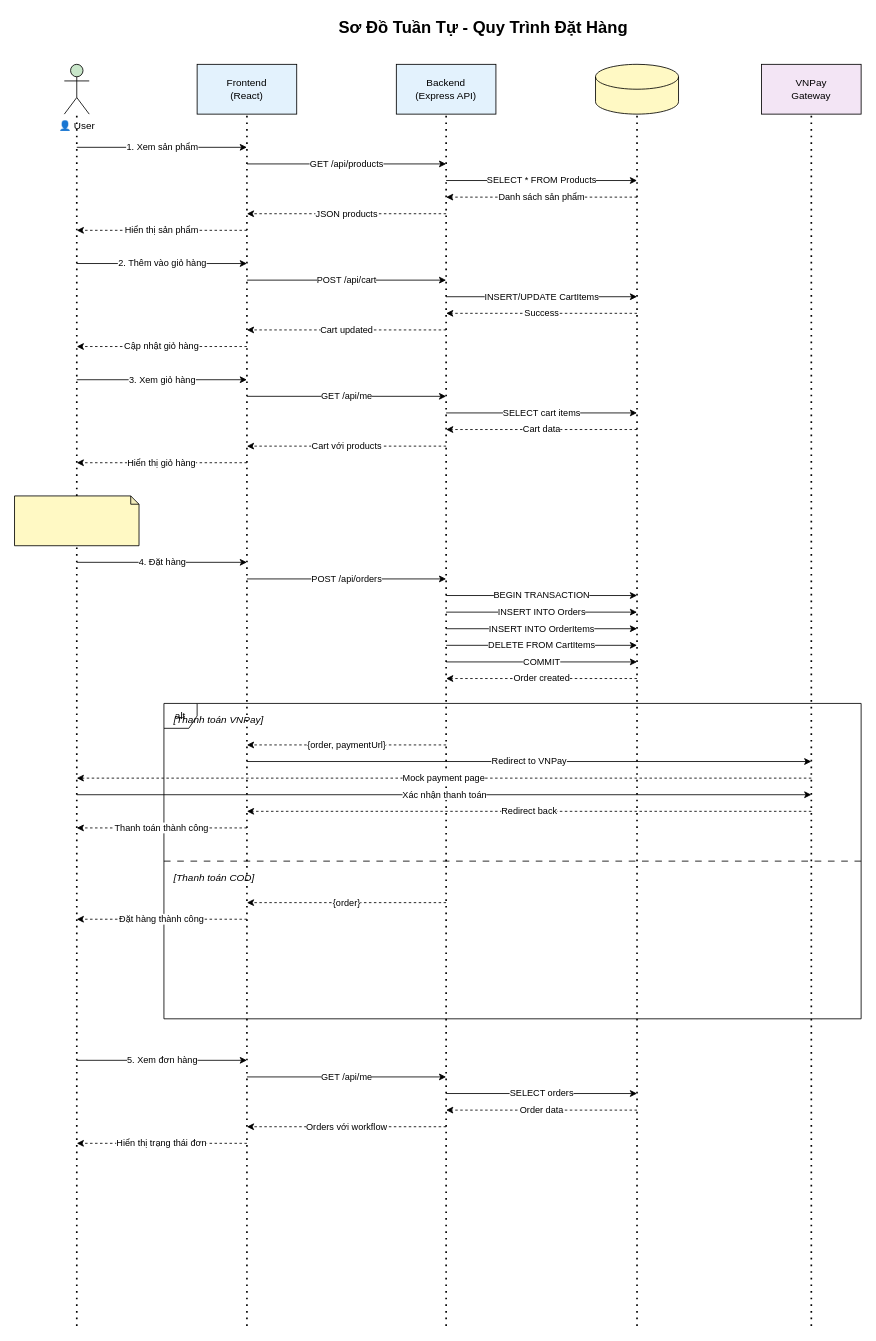
Some shapes in this 876 by 1341 pixel diagram are drawn without their labels. Each missing label, with the centre of its shape:
"Chọn phương thức: - Pickup/Delivery - COD/VNPay" belongs at (x=76, y=520).
"Database (SQLite)" belongs at (x=637, y=88).
